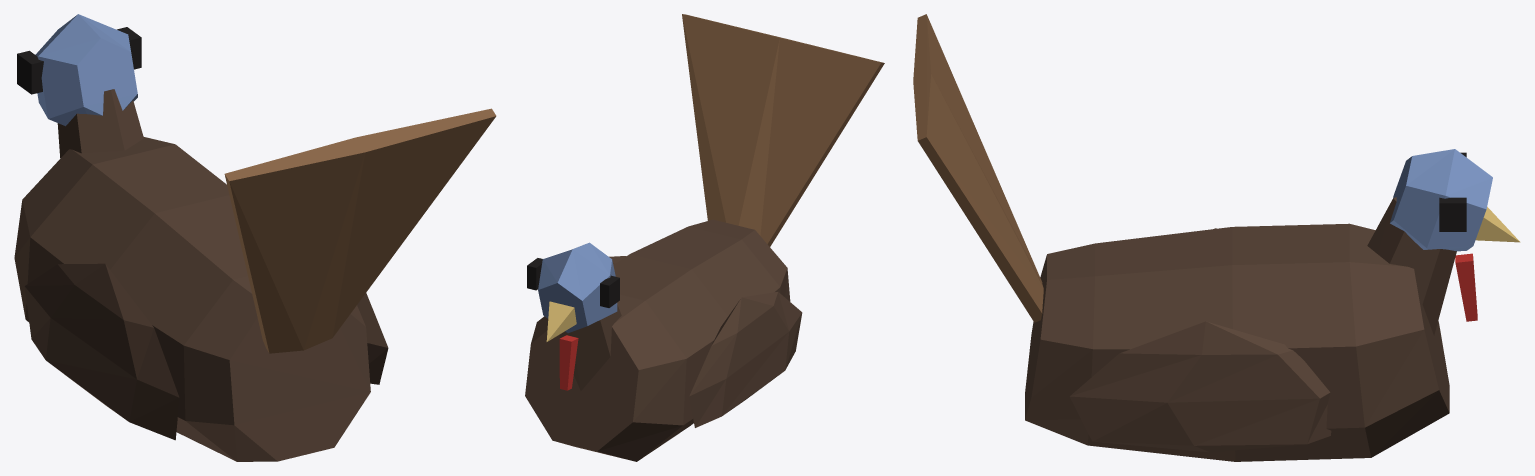
Rendered from animal_turkey.obj.
3 renders of one model, left to right at view 1: azimuth 30°, elevation 25°; view 2: azimuth 150°, elevation 25°; view 3: azimuth 270°, elevation 25°, orthographic. The views are drawn at different scales.
Parts seen in each view (by area): view 1: animal_turkey; view 2: animal_turkey; view 3: animal_turkey.
Boxes of the visible parts, x1=… form: animal_turkey: x1=14, y1=14, x2=496, y2=461; animal_turkey: x1=525, y1=14, x2=884, y2=461; animal_turkey: x1=913, y1=14, x2=1520, y2=461.
Size of the model in its own units: 0.3404 by 0.476 by 0.71.
